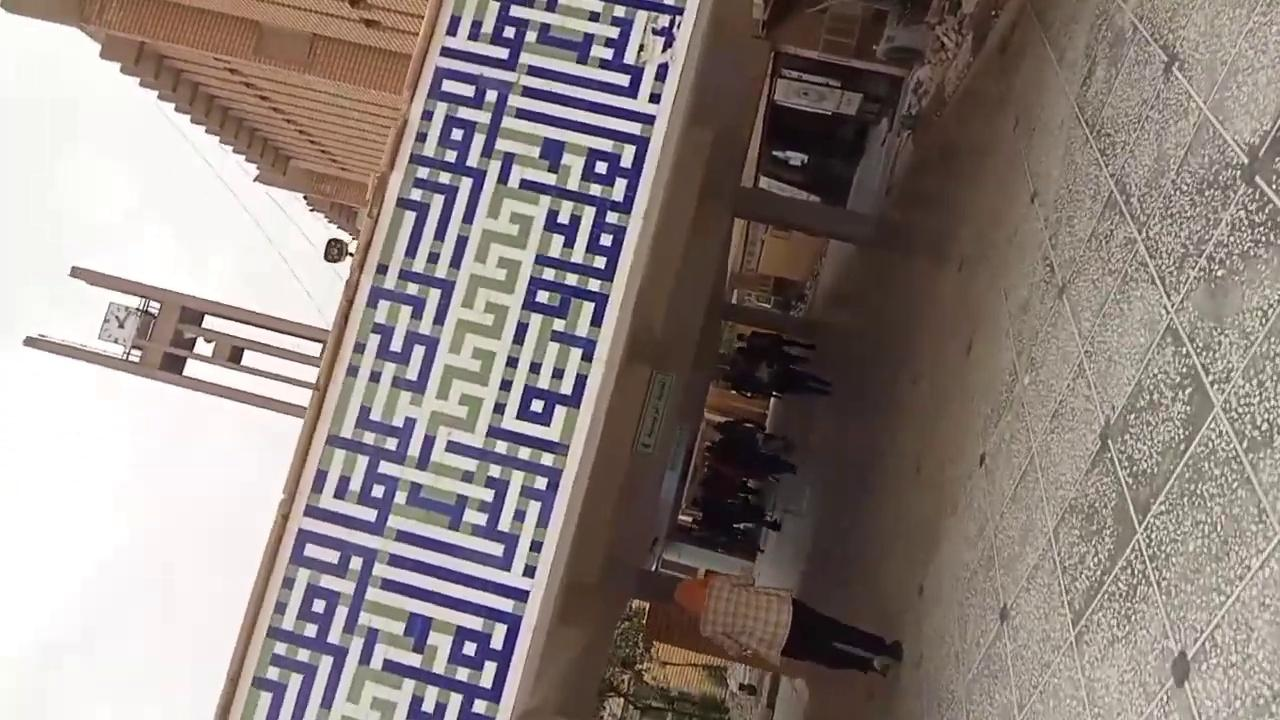person: (672, 568, 904, 678), (679, 416, 797, 549), (722, 329, 832, 397)
tree: (593, 596, 781, 718), (594, 597, 657, 718)
